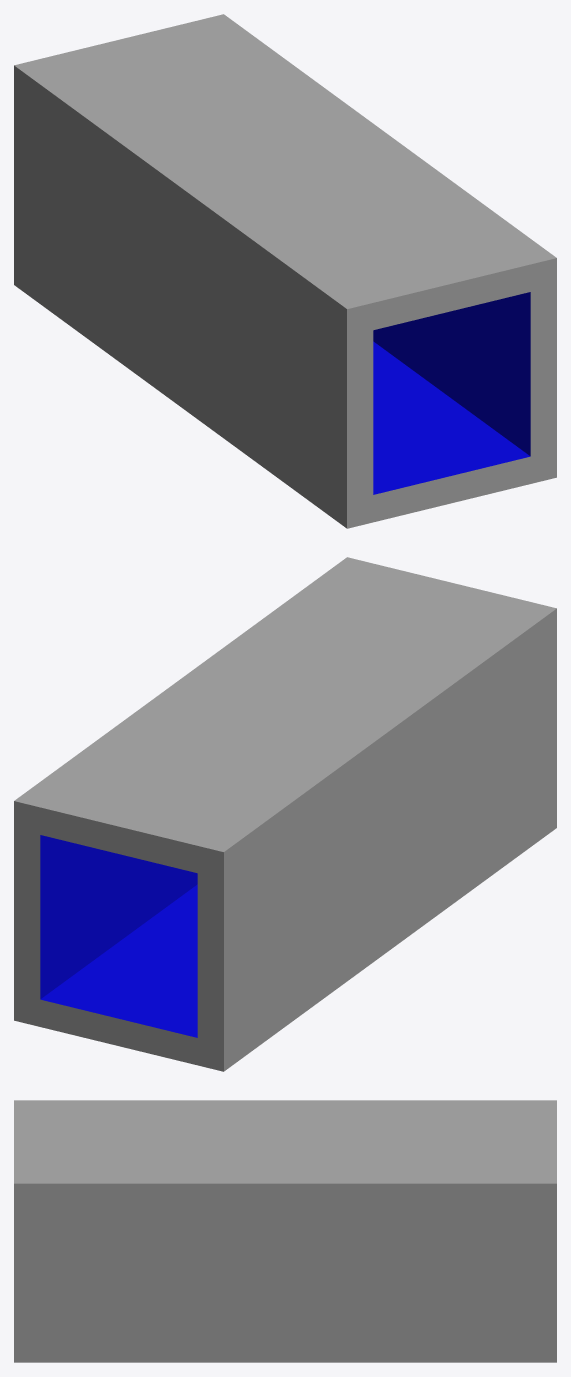
File: hallway hollow.fbx
3 views of the same model, one above another, from view 1: azimuth 30°, elevation 25°; view 2: azimuth 150°, elevation 25°; view 3: azimuth 270°, elevation 25° (orthographic). The views are drawn at different scales.
Parts seen in each view (by area): view 1: hallway_hollow; view 2: hallway_hollow; view 3: hallway_hollow.
Boxes of the visible parts, box(x1,y1,x2,y2) form: hallway_hollow: box(14, 14, 556, 528); hallway_hollow: box(14, 557, 556, 1071); hallway_hollow: box(14, 1100, 556, 1362).
Bounding box in the file's own units: 4 × 4 × 11.
